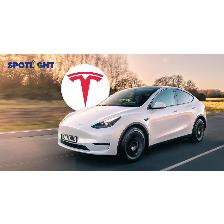EV: (58, 86, 208, 162)
